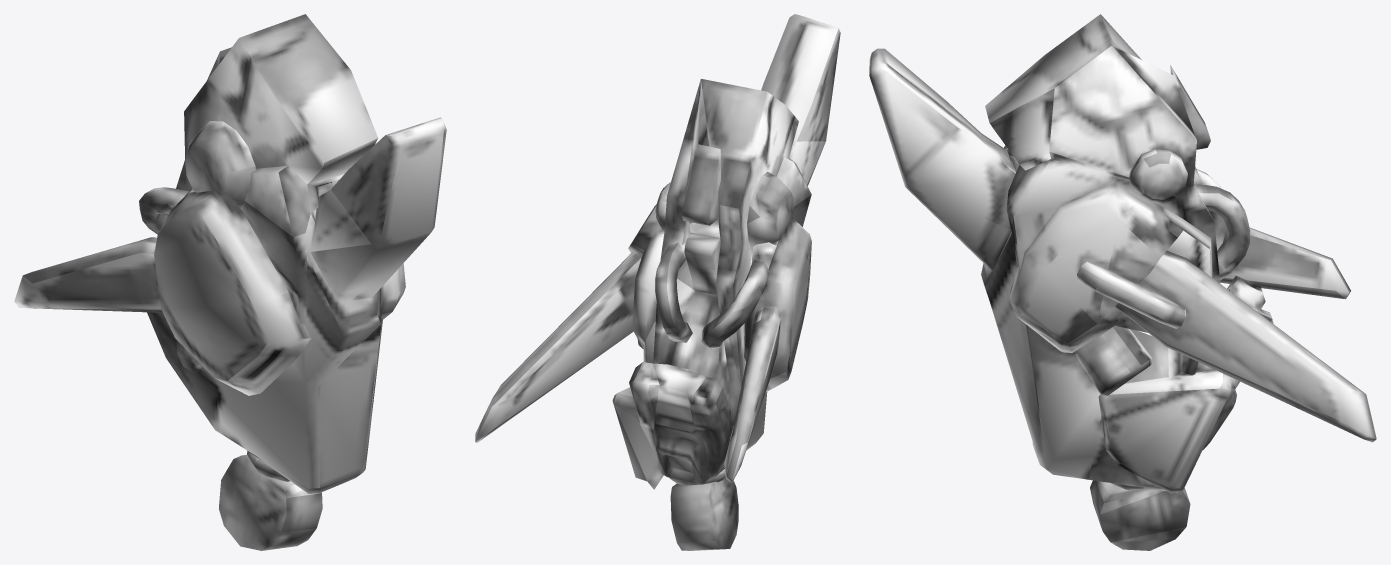
File: l_shin.glb
The picture shows the model from 3 angles, left to right: view 1: azimuth 30°, elevation 25°; view 2: azimuth 150°, elevation 25°; view 3: azimuth 270°, elevation 25°; orthographic projection. The views are drawn at different scales.
Visible parts, largest first — view 1: l_shin; view 2: l_shin; view 3: l_shin.
Boxes of the visible parts, <box> form: l_shin: <box>14,14,446,550</box>; l_shin: <box>475,14,840,550</box>; l_shin: <box>869,14,1376,550</box>.
Bounding box in the file's own units: 2.23 × 3.89 × 3.51.
Materials: 3 (3 with a texture image).
